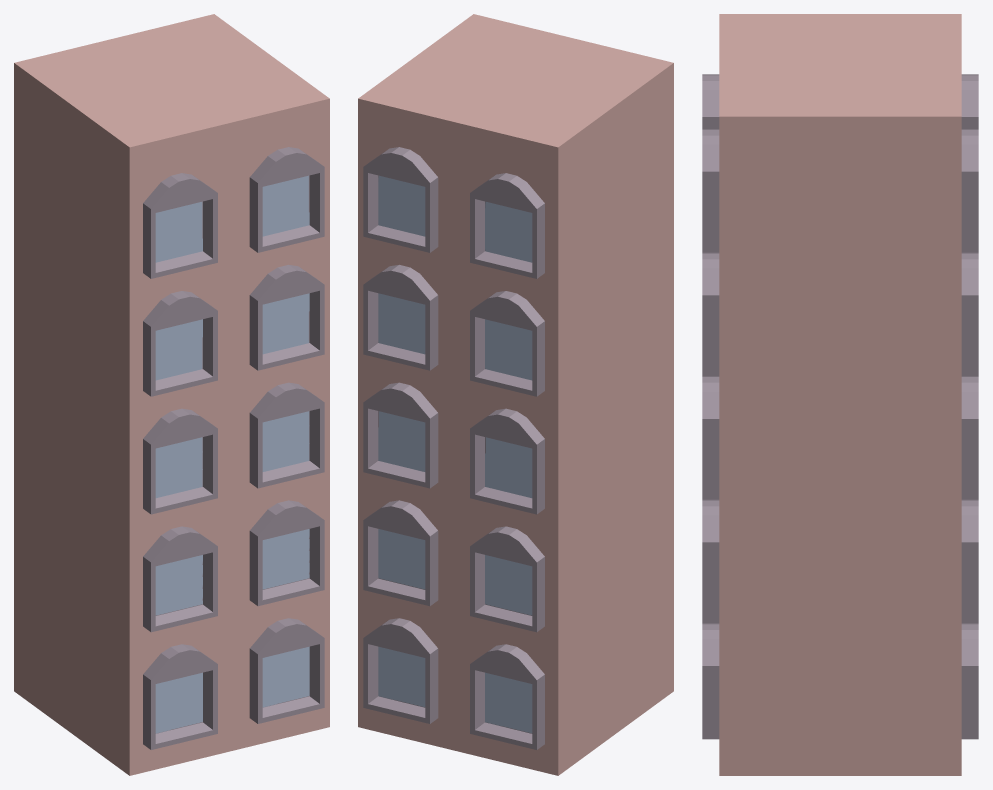
File: Building.fbx
3 views of the same model, side by side, from view 1: azimuth 30°, elevation 25°; view 2: azimuth 150°, elevation 25°; view 3: azimuth 270°, elevation 25° (orthographic). The views are drawn at different scales.
Visible parts, largest first — view 1: Building, Windows.003, Windows.002; view 2: Building, Windows, Windows.001; view 3: Building, Windows, Windows.003, Windows.001, Windows.002.
Part boxes in pixels (x1=…): Building: x1=14, y1=14, x2=329, y2=775; Windows.003: x1=249, y1=147, x2=324, y2=723; Windows.002: x1=143, y1=173, x2=217, y2=749; Building: x1=358, y1=14, x2=673, y2=775; Windows: x1=363, y1=147, x2=438, y2=723; Windows.001: x1=470, y1=173, x2=544, y2=749; Building: x1=719, y1=14, x2=961, y2=775; Windows: x1=961, y1=129, x2=978, y2=739; Windows.003: x1=702, y1=129, x2=719, y2=739; Windows.001: x1=961, y1=74, x2=978, y2=623; Windows.002: x1=702, y1=74, x2=719, y2=623.
Size of the model in its own units: 6 by 18 by 6.84.
2 materials, 1 textured.
